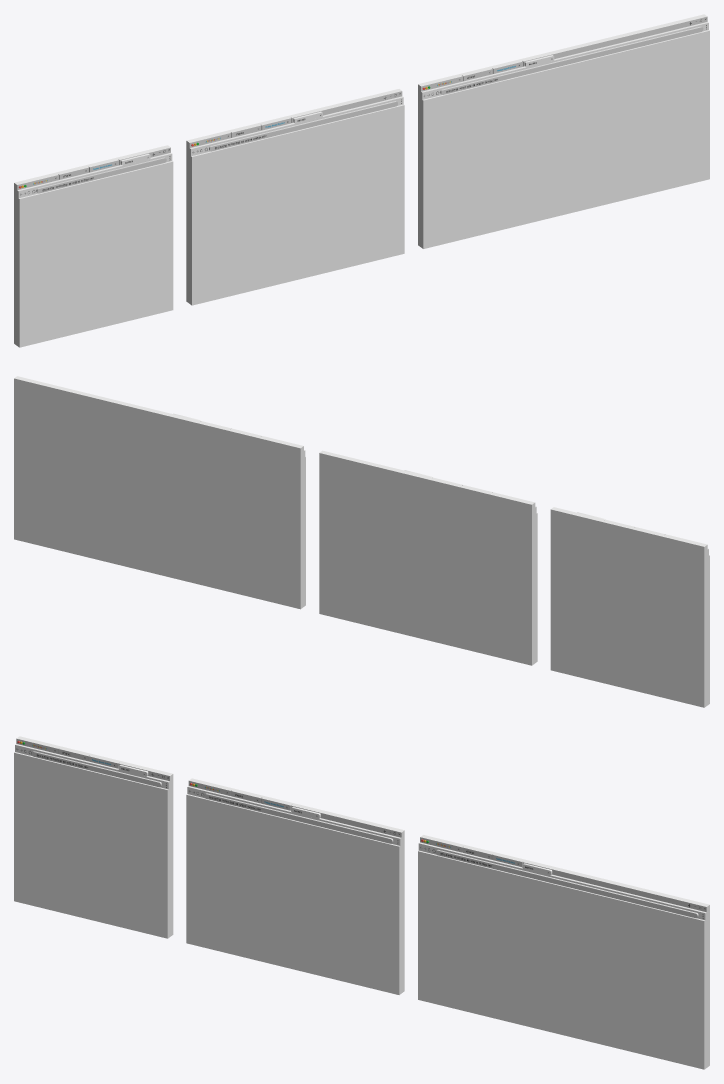
File: web1.fbx
3 renders of one model, top to bottom at view 1: azimuth 30°, elevation 25°; view 2: azimuth 150°, elevation 25°; view 3: azimuth 330°, elevation 25°, orthographic.
Parts seen in each view (by area): view 1: Cube.002, Cube.001, Cube; view 2: Cube.002, Cube.001, Cube; view 3: Cube.002, Cube.001, Cube.
Part boxes in pixels (bbox=[...]): Cube.002: bbox=[418, 14, 709, 248]; Cube.001: bbox=[186, 89, 404, 305]; Cube: bbox=[14, 145, 173, 347]; Cube.002: bbox=[14, 376, 305, 609]; Cube.001: bbox=[319, 450, 537, 665]; Cube: bbox=[550, 507, 709, 707]; Cube.002: bbox=[418, 835, 709, 1069]; Cube.001: bbox=[186, 778, 404, 994]; Cube: bbox=[14, 736, 173, 938].
Bounding box in the file's own units: 898 × 200 × 12.68.
